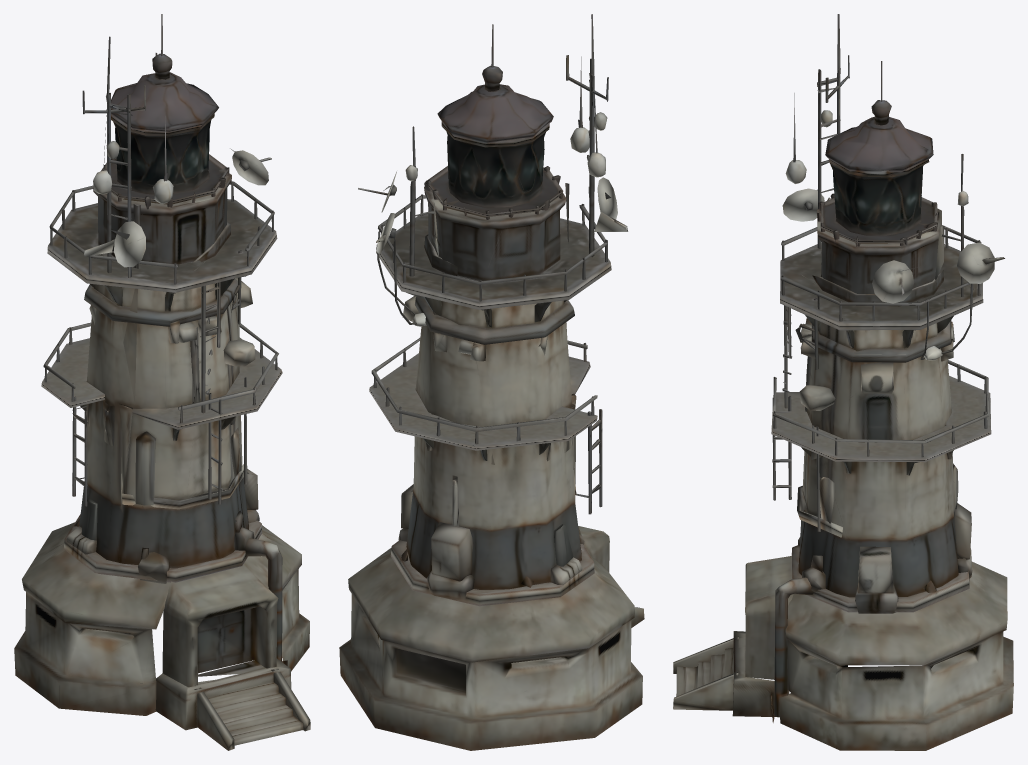
Rendered from Meshy_AI_Rustbound_Signal_Towe_1119012757_texture.glb.
3 renders of one model, left to right at view 1: azimuth 30°, elevation 25°; view 2: azimuth 150°, elevation 25°; view 3: azimuth 270°, elevation 25°, orthographic. The views are drawn at different scales.
Parts seen in each view (by area): view 1: geometry_0; view 2: geometry_0; view 3: geometry_0.
Part boxes in pixels (bbox=[...]): geometry_0: bbox=[14, 14, 310, 750]; geometry_0: bbox=[339, 14, 644, 750]; geometry_0: bbox=[673, 14, 1013, 750].
Bounding box in the file's own units: 0.3986 × 1 × 0.4812.
1 material, 1 textured.
